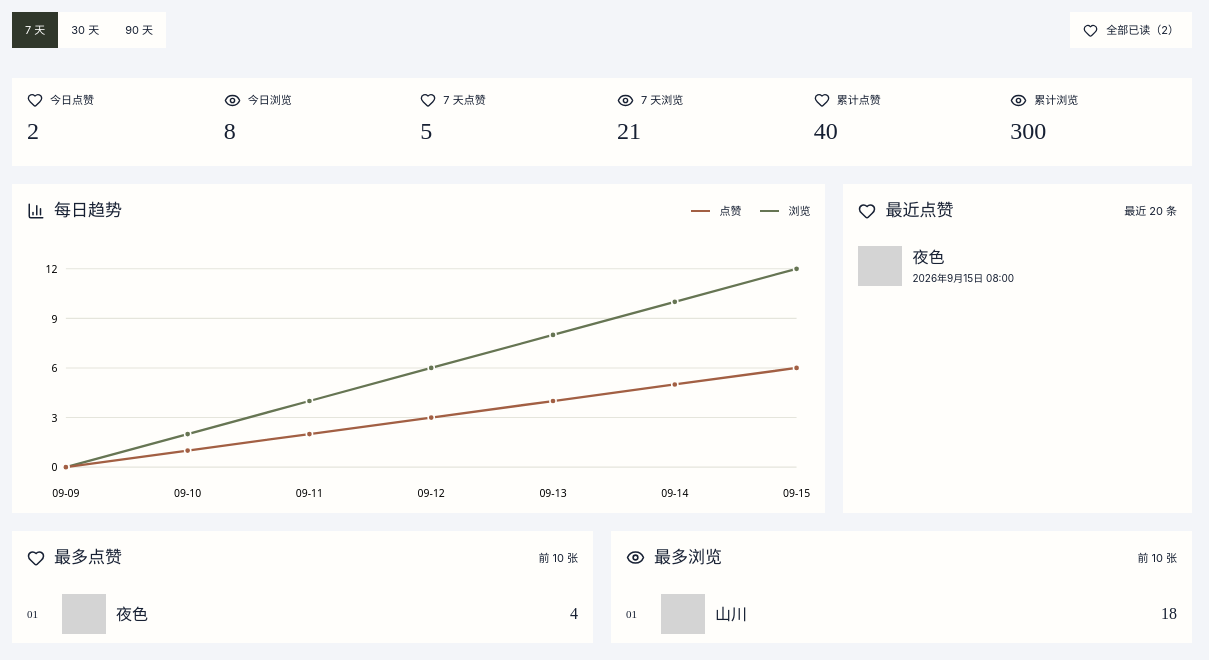
EngagementPanel › marks only the displayed latest like as read and updates the notification state
Click the button "全部已读（2）".
click(1131, 30)  # box x1=1070 y1=12 x2=1192 y2=48
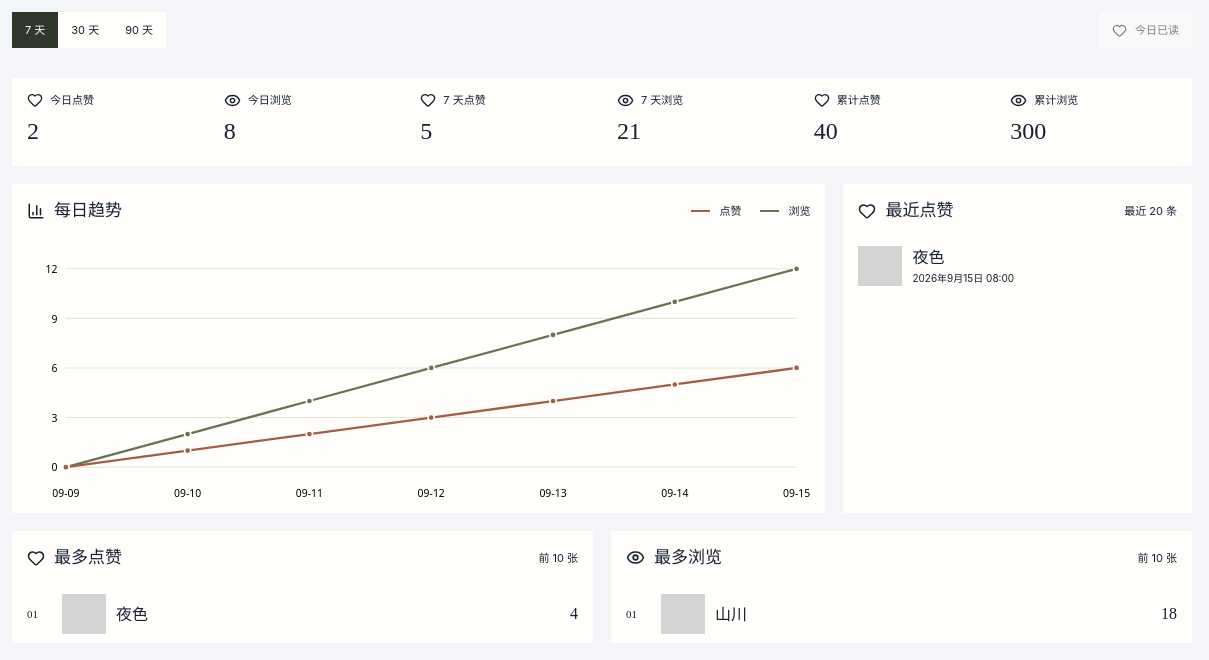
Result: the button "今日已读" is disabled at x1=1099 y1=12 x2=1192 y2=48
